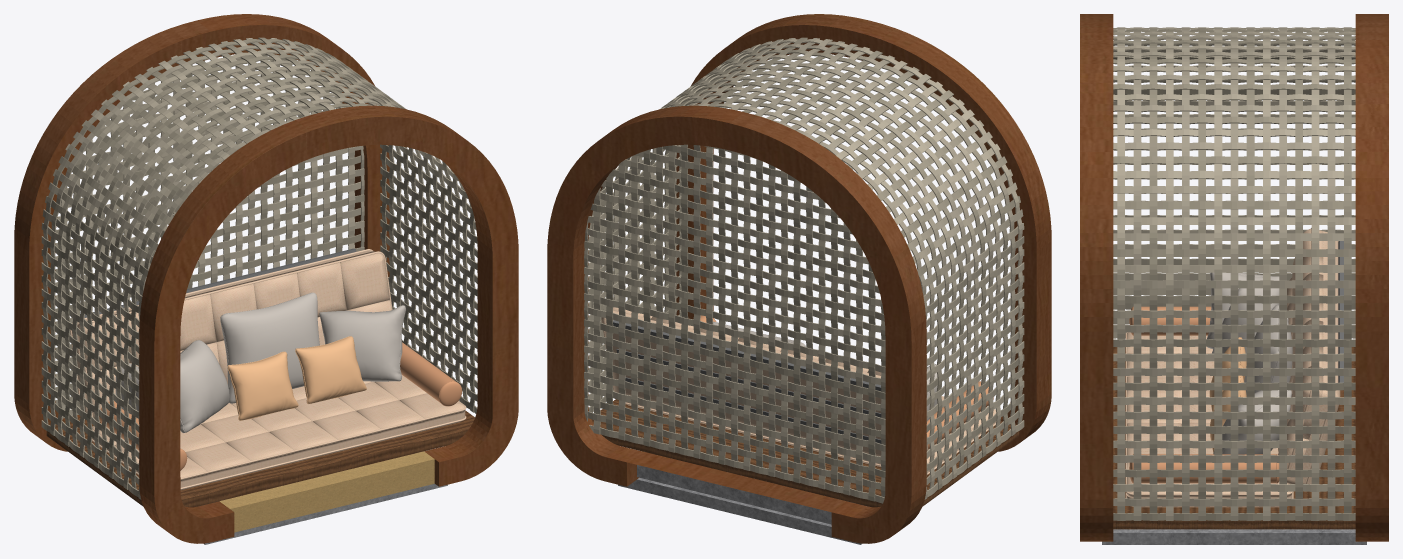
The model's file is lounge.glb.
3 renders of one model, left to right at view 1: azimuth 30°, elevation 25°; view 2: azimuth 150°, elevation 25°; view 3: azimuth 270°, elevation 25°, orthographic. The views are drawn at different scales.
Parts seen in each view (by area): view 1: 3DGeom-62, 3DGeom-75, 3DGeom-74, 3DGeom-73, 3DGeom-4 (×15), 3DGeom-63, 3DGeom-64, 3DGeom-78, 3DGeom-76, 3DGeom-77, 3DGeom-53, 3DGeom-56 (+11 smaller); view 2: 3DGeom-62, 3DGeom-76, 3DGeom-77, 3DGeom-78, 3DGeom-73, 3DGeom-74, 3DGeom-75, 3DGeom-64, 3DGeom-20 (×4), 3DGeom-66, 3DGeom-65, 3DGeom-1 (×3); view 3: 3DGeom-75, 3DGeom-74, 3DGeom-62, 3DGeom-73, 3DGeom-64, 3DGeom-66, 3DGeom-51 (×2), 3DGeom-4 (×3), 3DGeom-56, 3DGeom-53, 3DGeom-7 (×2), 3DGeom-54 (+5 smaller).
Boxes of the visible parts, x1,y1,x2,y2 form: 3DGeom-62: (14, 14, 518, 543); 3DGeom-75: (41, 37, 477, 488); 3DGeom-74: (41, 38, 477, 499); 3DGeom-73: (41, 38, 477, 496); 3DGeom-4 (×15): (180, 260, 426, 475); 3DGeom-63: (219, 451, 434, 532); 3DGeom-64: (46, 410, 474, 507); 3DGeom-78: (55, 54, 364, 407); 3DGeom-76: (55, 54, 364, 415); 3DGeom-77: (55, 57, 364, 418); 3DGeom-53: (220, 292, 319, 403); 3DGeom-56: (319, 305, 405, 381); 3DGeom-62: (547, 14, 1051, 543); 3DGeom-76: (584, 146, 885, 503); 3DGeom-77: (584, 145, 885, 497); 3DGeom-78: (584, 144, 885, 501); 3DGeom-73: (588, 38, 1024, 496); 3DGeom-74: (588, 38, 1024, 499); 3DGeom-75: (588, 37, 1024, 489); 3DGeom-64: (591, 399, 1019, 507); 3DGeom-20 (×4): (602, 310, 881, 456); 3DGeom-66: (618, 477, 861, 544); 3DGeom-65: (637, 465, 866, 524); 3DGeom-1 (×3): (613, 320, 881, 443); 3DGeom-75: (1113, 27, 1355, 520); 3DGeom-74: (1113, 27, 1355, 520); 3DGeom-62: (1080, 14, 1388, 541); 3DGeom-73: (1113, 27, 1355, 520); 3DGeom-64: (1113, 347, 1355, 529); 3DGeom-66: (1102, 529, 1366, 544); 3DGeom-51 (×2): (1129, 306, 1279, 483); 3DGeom-4 (×3): (1127, 376, 1181, 440); 3DGeom-56: (1213, 390, 1291, 454); 3DGeom-53: (1244, 305, 1292, 394); 3DGeom-7 (×2): (1127, 332, 1323, 439); 3DGeom-54: (1207, 272, 1279, 349).
Bounding box in the file's own units: 2.1 × 2.2 × 1.4.
13 materials, 7 textured.
